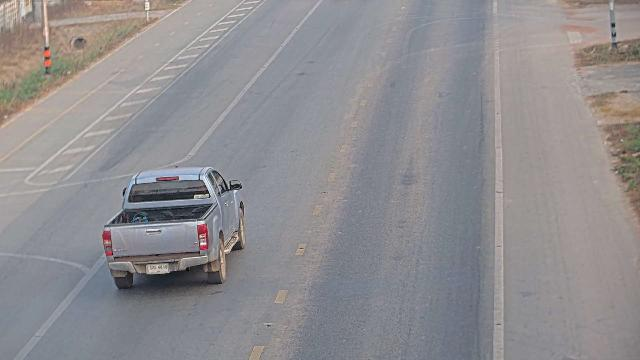pickup-truck: (101, 165, 246, 289)
